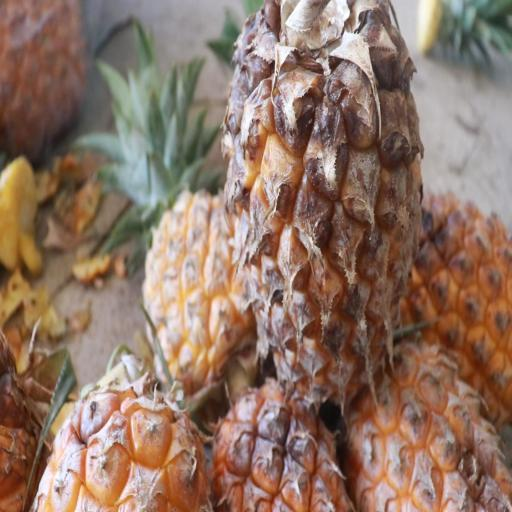Pineapple - v8 v1: (220, 0, 427, 411), (142, 80, 270, 394), (334, 333, 510, 512), (28, 351, 210, 512), (200, 356, 340, 512)
